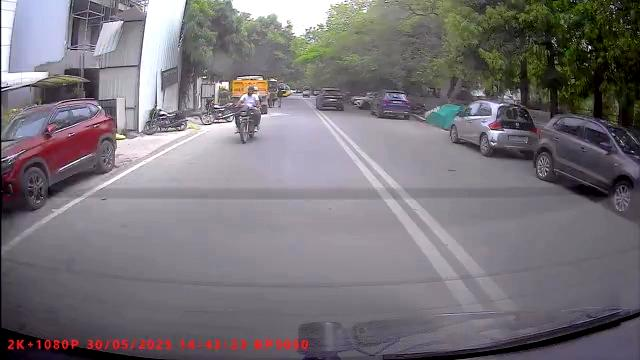motorcycle_without_helmet: (233, 84, 262, 145)
